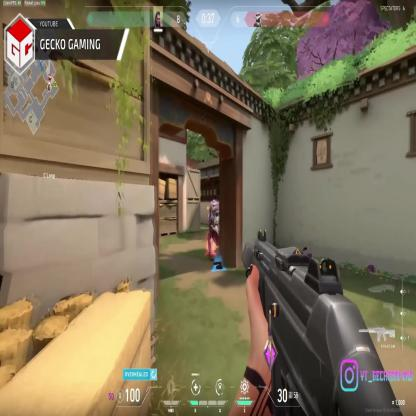enemy: (207, 199, 221, 256)
enemy_head: (210, 200, 218, 210)
